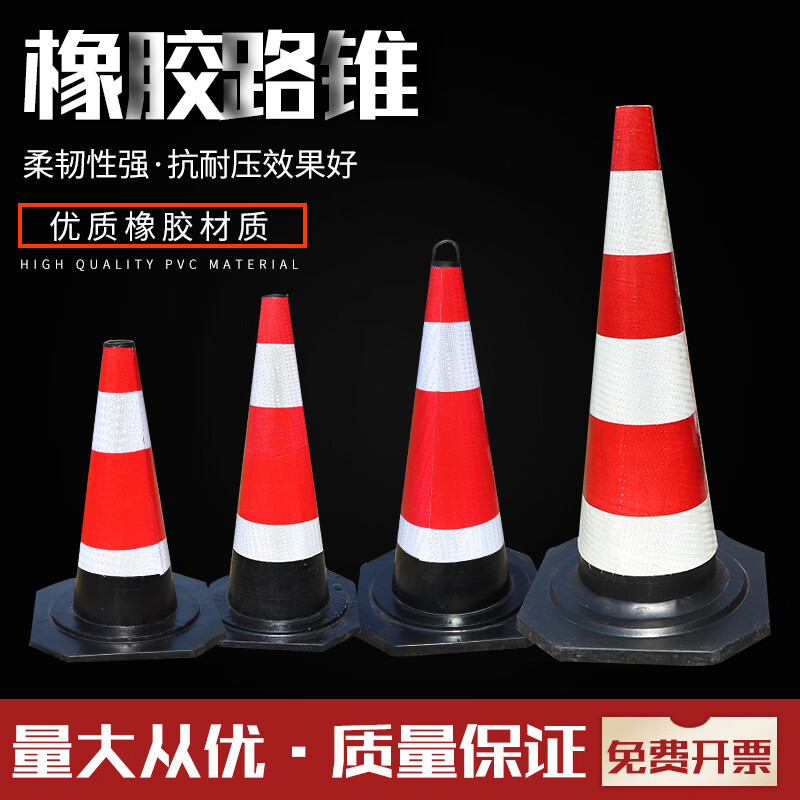traffic_cone: (534, 83, 777, 675), (343, 218, 556, 673), (174, 289, 373, 657), (34, 319, 218, 670)
